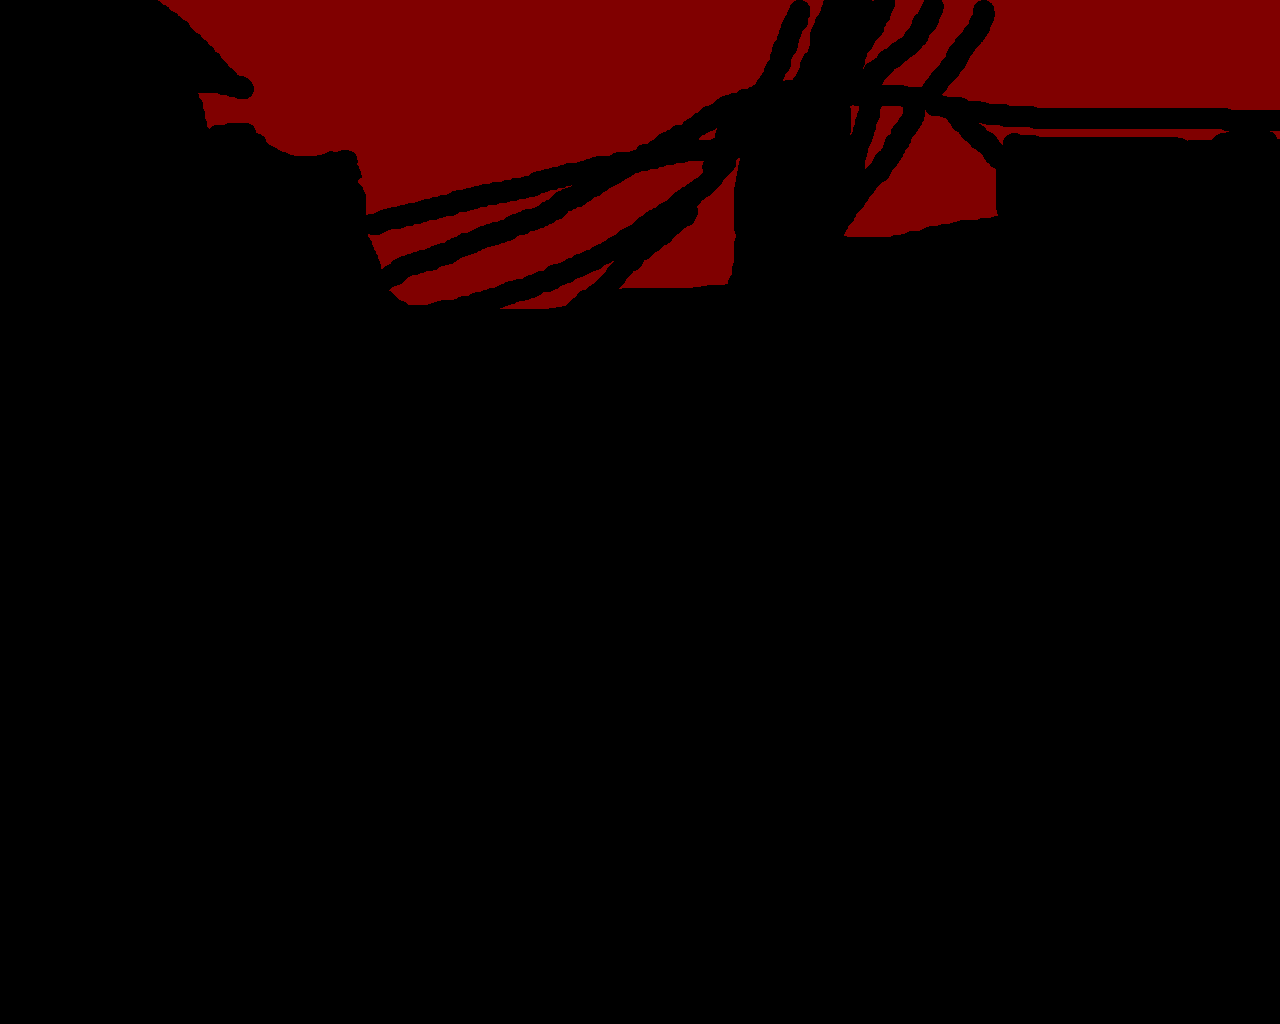Sky: (159, 1, 1279, 309)
